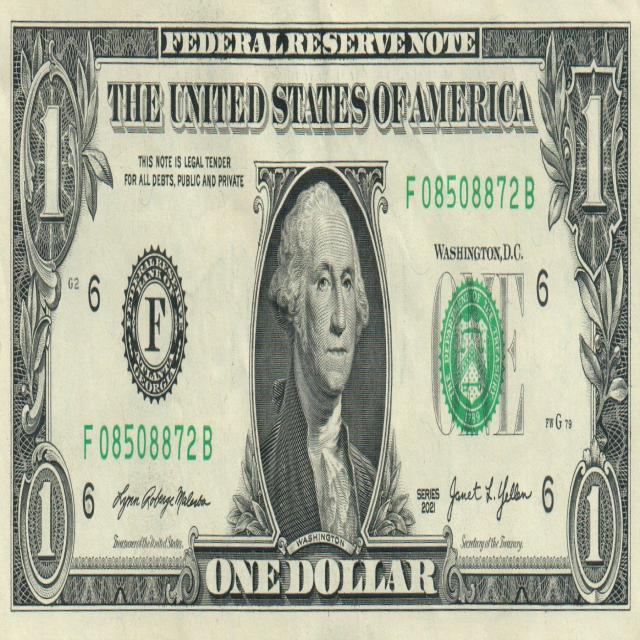SerialNumber: (406, 175, 534, 209), (97, 425, 212, 460)
